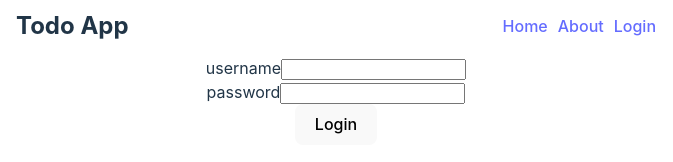
it: protected › 로그인 후에는 보호된 페이지에 접근할 수 있어야 한다
Type "admin" into the field labelled "username". click: [374, 70]
box: [281,59,466,80]
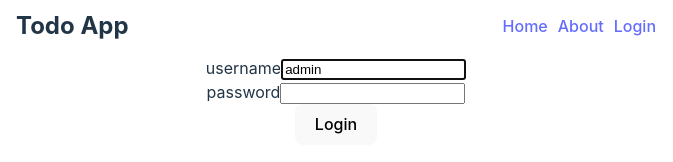
Type "admin" into the password field labelled "password". click: [373, 94]
box: [280,83,465,104]
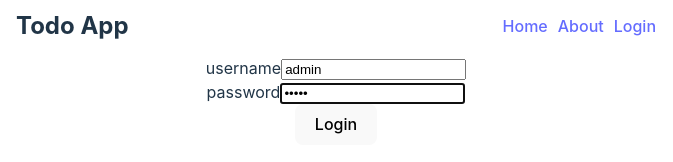
Click the button "Login". click: [337, 125]
box: [295,104,378,145]
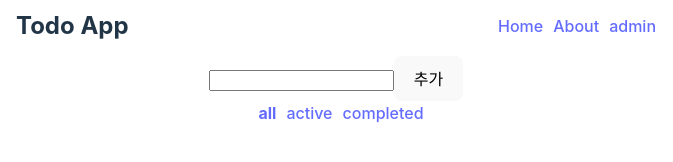
Click the link "admin". click: [633, 26]
box: [609,16,656,36]
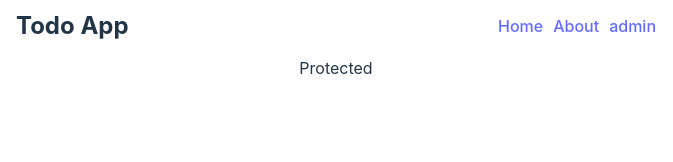
Now the text "Protected" is shown, box [299,58,373,78]
